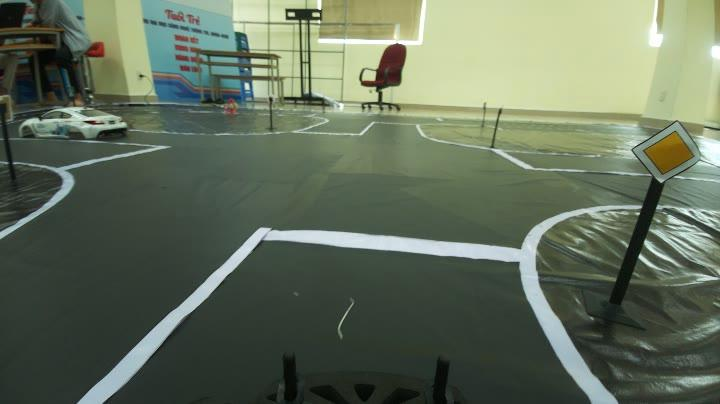priority: (620, 112, 704, 184)
